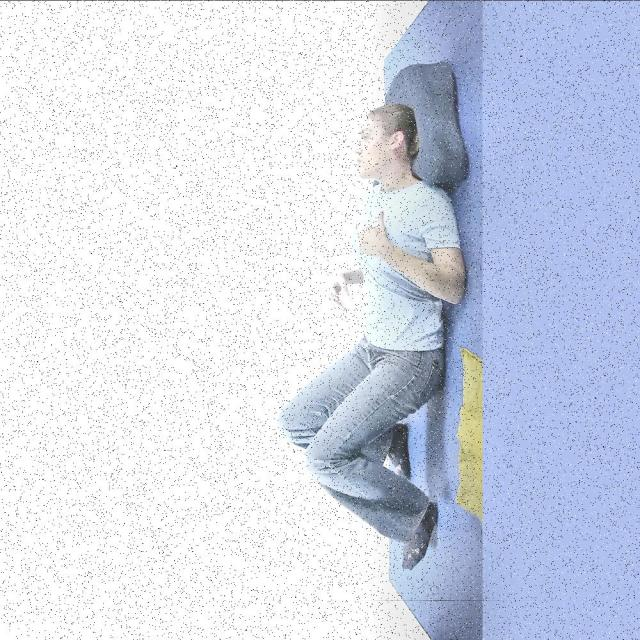Supine: (279, 104, 465, 568)
